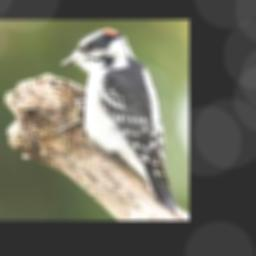Woodpecker: (52, 27, 184, 214)
